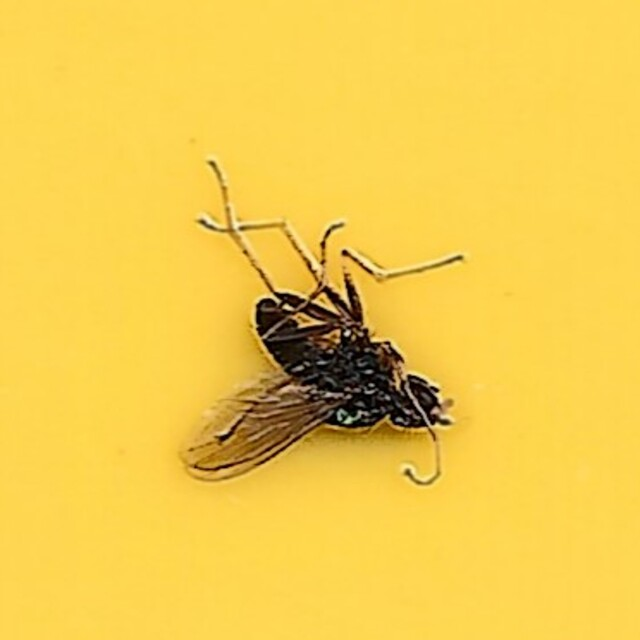Brachycera: (172, 155, 468, 485)
